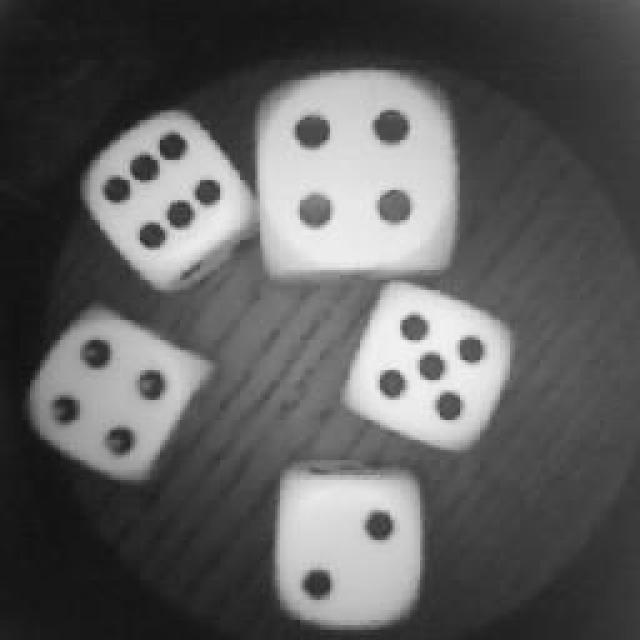dice_2: (267, 458, 435, 632)
dice_4: (252, 65, 470, 287), (28, 305, 210, 490)
dice_5: (345, 275, 515, 453)
dice_6: (78, 100, 262, 288)
